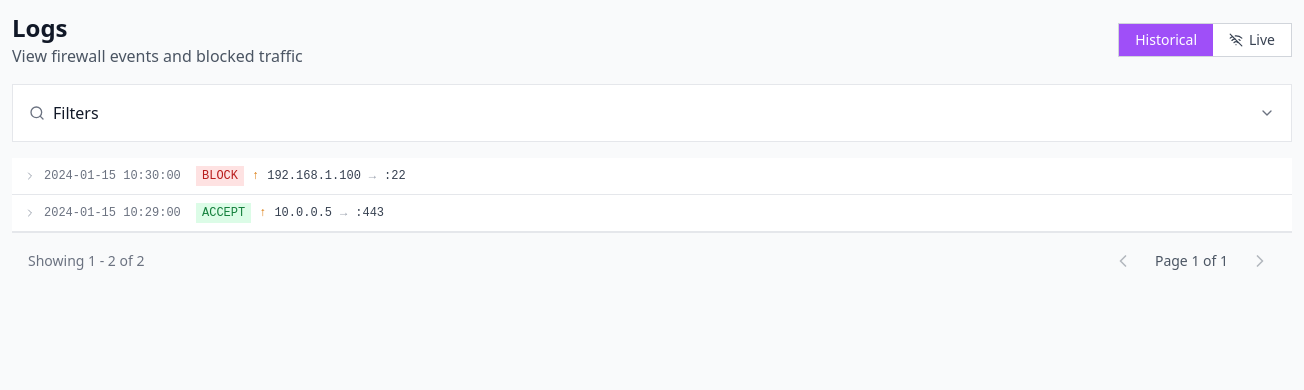
Logs Page › Filter Disclosure State Persistence › filter expanded state shows Active badge when filters have values
This screenshot has width=1304, height=390.
Expected: the heading "Logs" is shown, [12,11,68,44]
// Expand filters
Step 1. Click the button "Filters" → click(76, 113), box [13,85,1291,141]
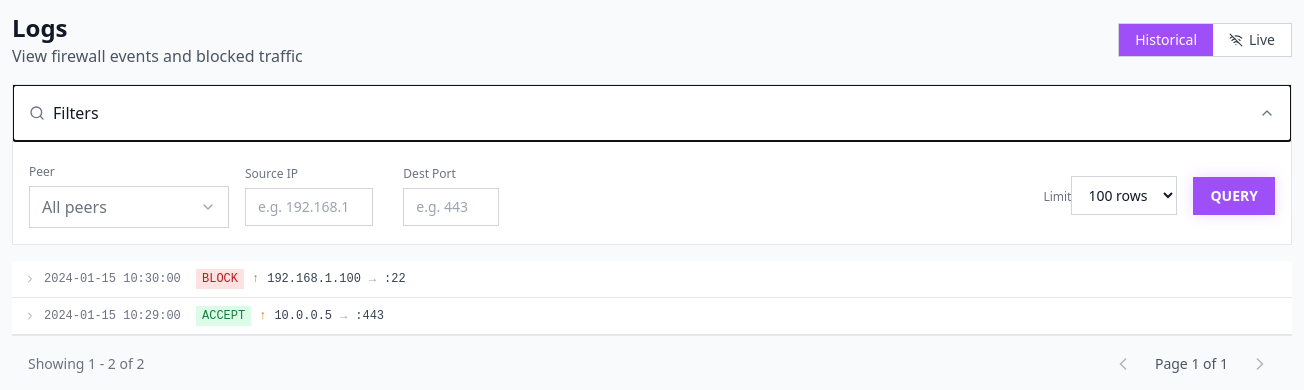
Now the field with placeholder "e.g. 192.168.1" is shown
// Type in source IP filter
Step 2. Type "192.168" into the field with placeholder "e.g. 192.168.1" → (309, 207), box [245,188,373,226]
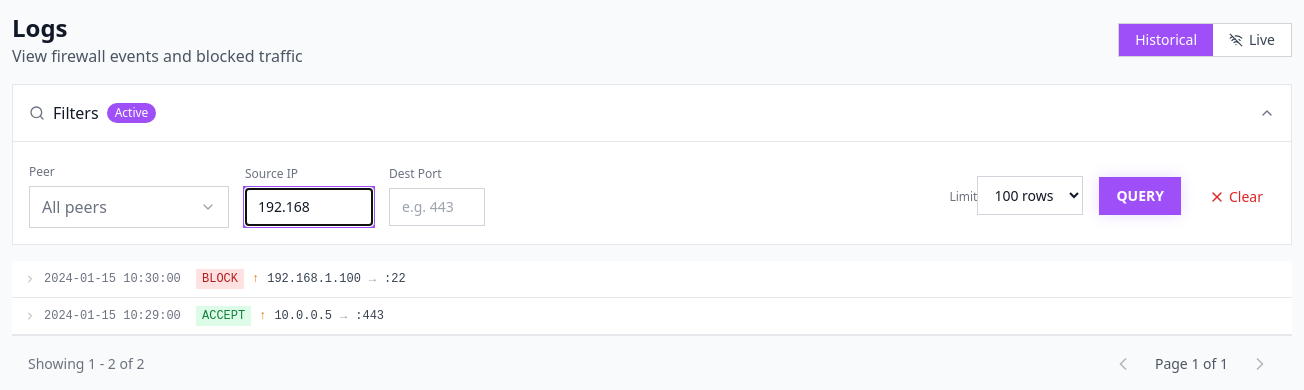
Now the text "Active" is shown, box [107,103,156,123]
